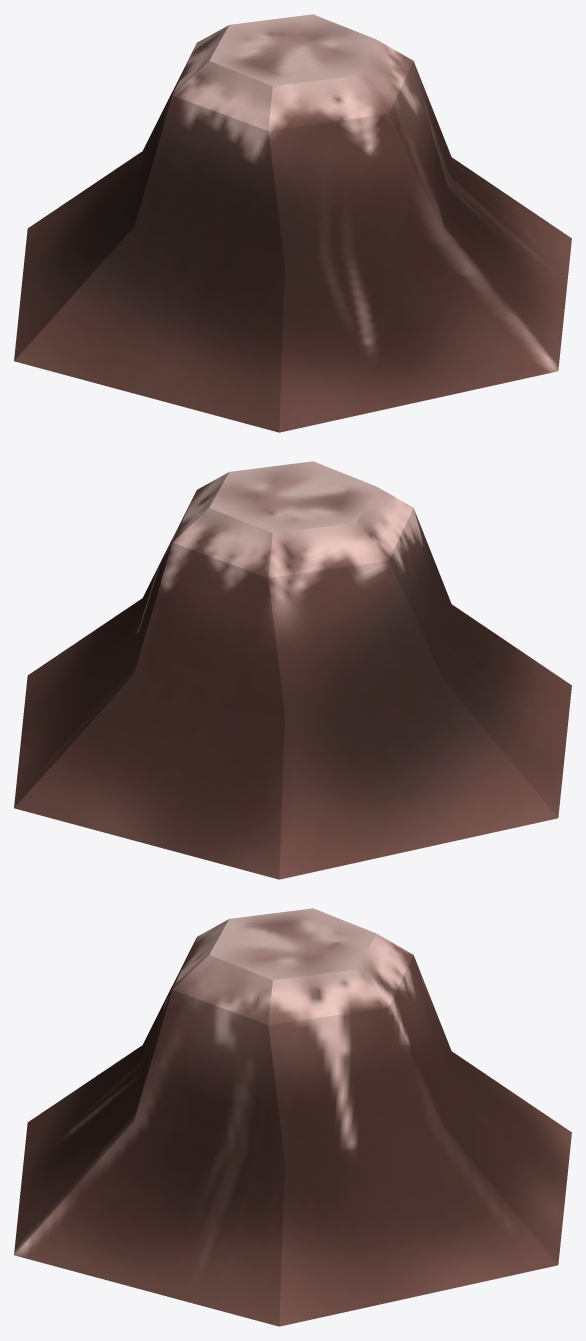
The model's file is Tree_Stump2_Model.fbx.
The picture shows the model from 3 angles, top to bottom: view 1: azimuth 30°, elevation 25°; view 2: azimuth 150°, elevation 25°; view 3: azimuth 270°, elevation 25°; orthographic projection.
Parts seen in each view (by area): view 1: Stump2_Model; view 2: Stump2_Model; view 3: Stump2_Model.
Part boxes in pixels (<box>): Stump2_Model: <box>14,14,571,432</box>; Stump2_Model: <box>14,461,571,879</box>; Stump2_Model: <box>14,908,571,1326</box>.
Bounding box in the file's own units: 305 × 134 × 271.
